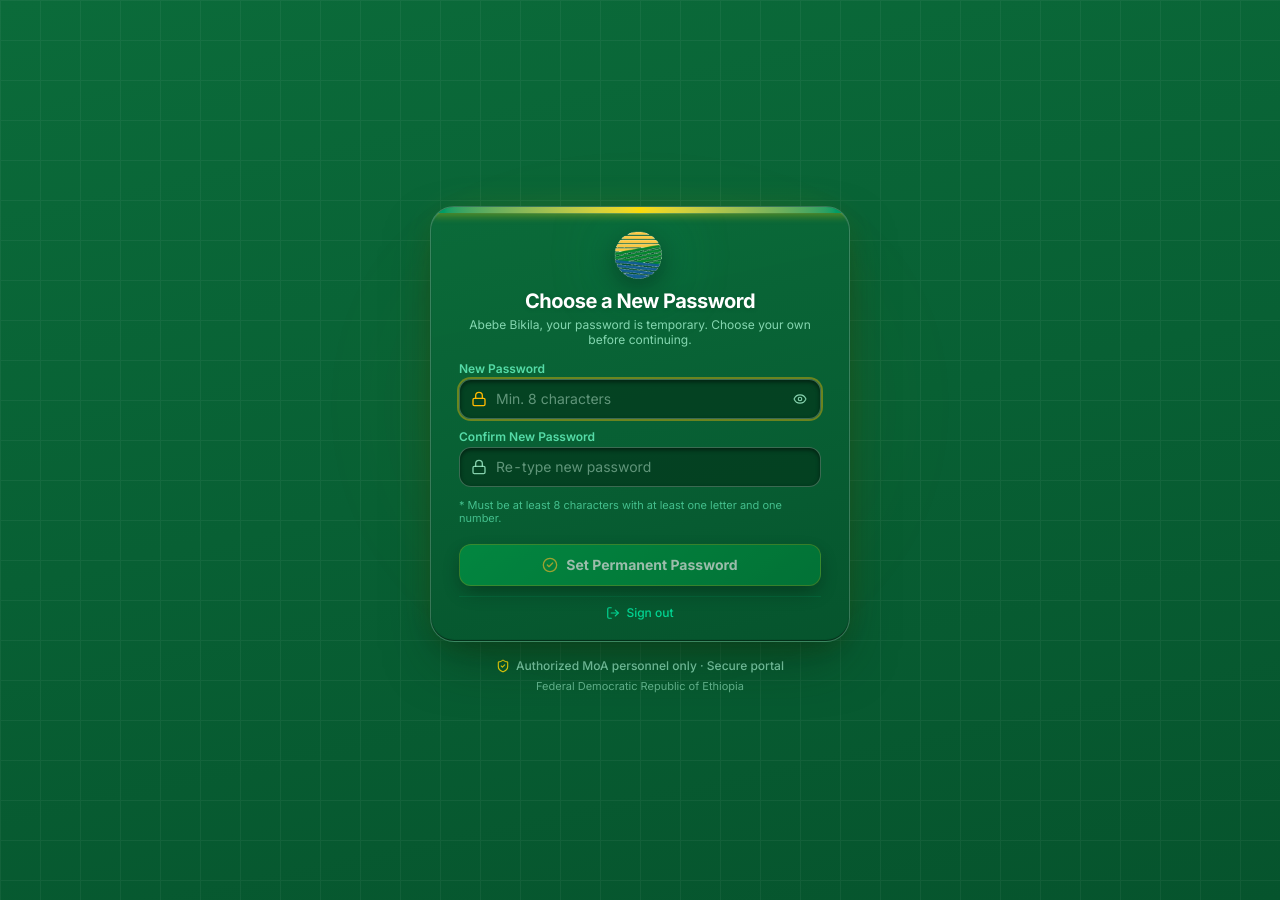
Test: ChangePasswordPage › shows error if new passwords do not match
The width and height of the screenshot is (1280, 900).
In the password field with placeholder "Min. 8 characters": coordinates (640, 398) [459,378,821,418], type "NewPermPassword1"
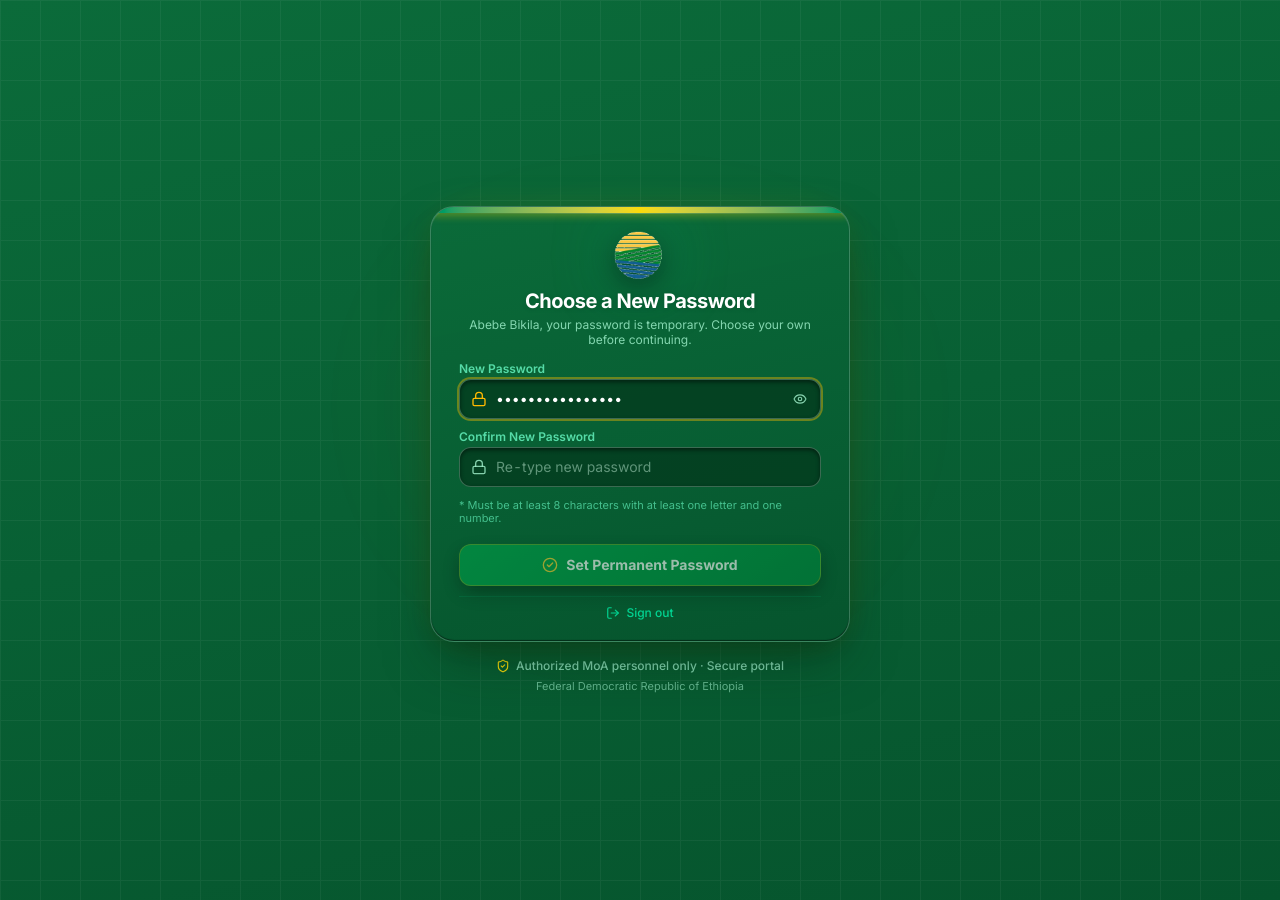
In the password field with placeholder "Re-type new password": coordinates (640, 466) [459,446,821,486], type "DifferentPassword2"
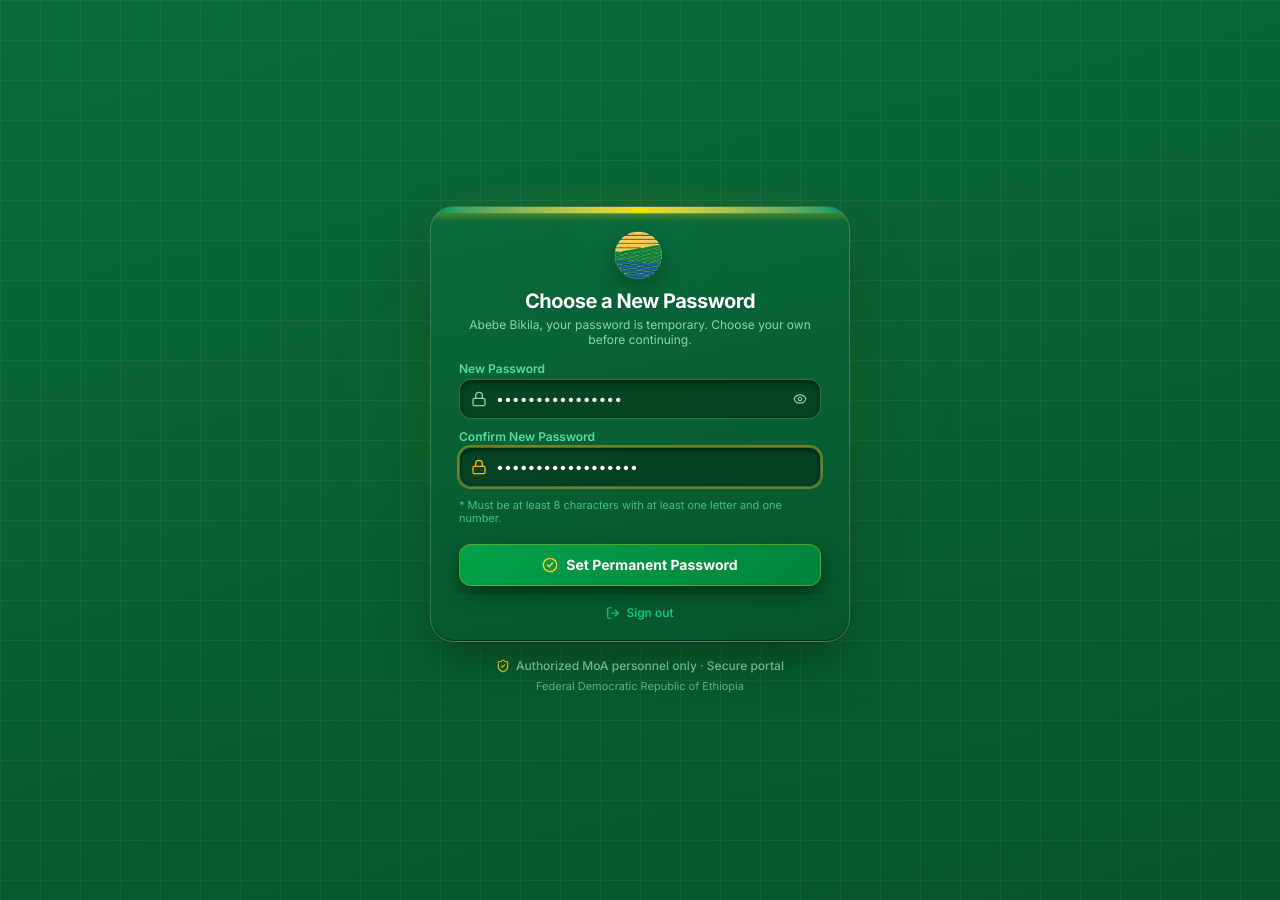
Click the button "Set Permanent Password": coordinates (640, 565) [459,544,821,586]
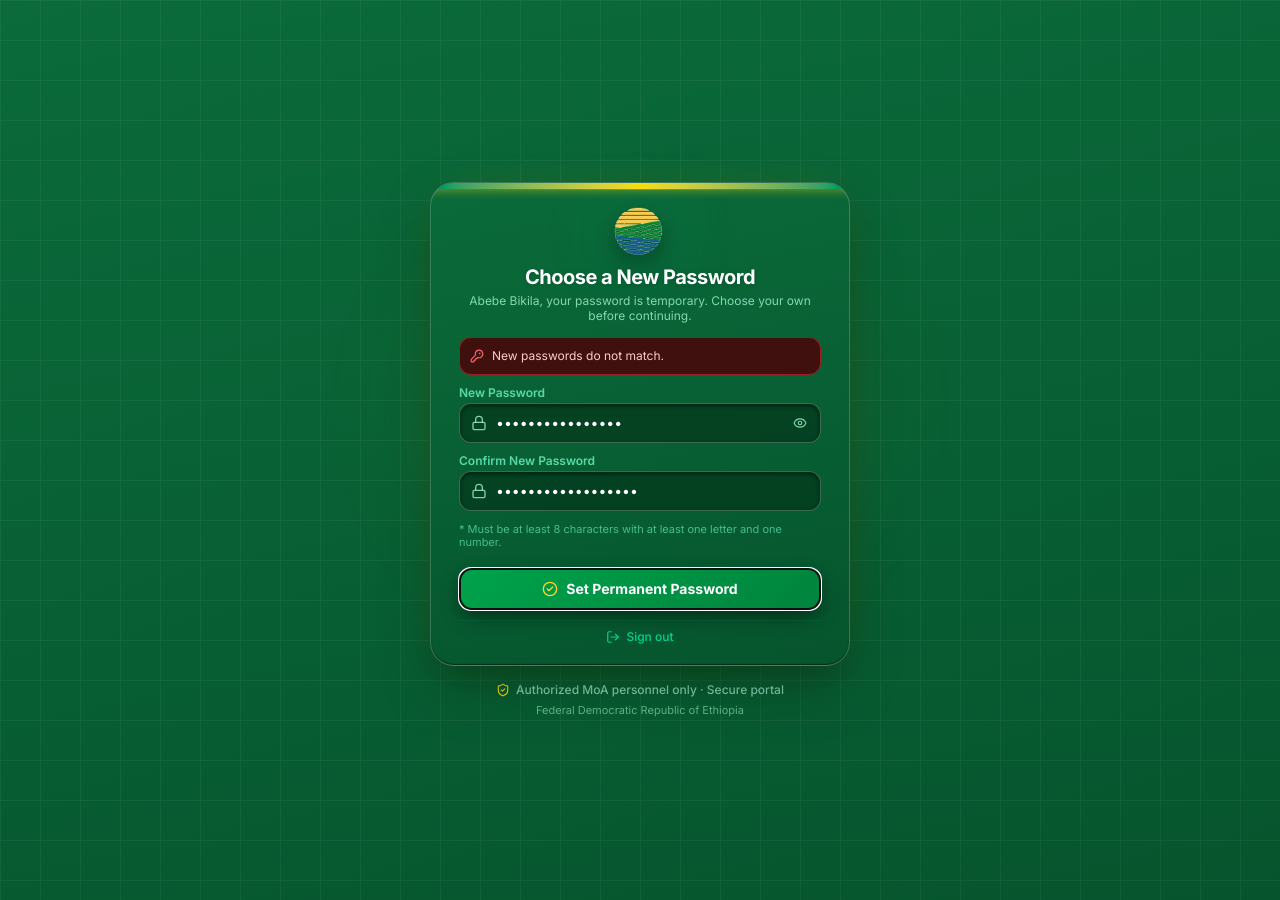
Result: the text "New passwords do not match." is shown at [492,348,664,364]
